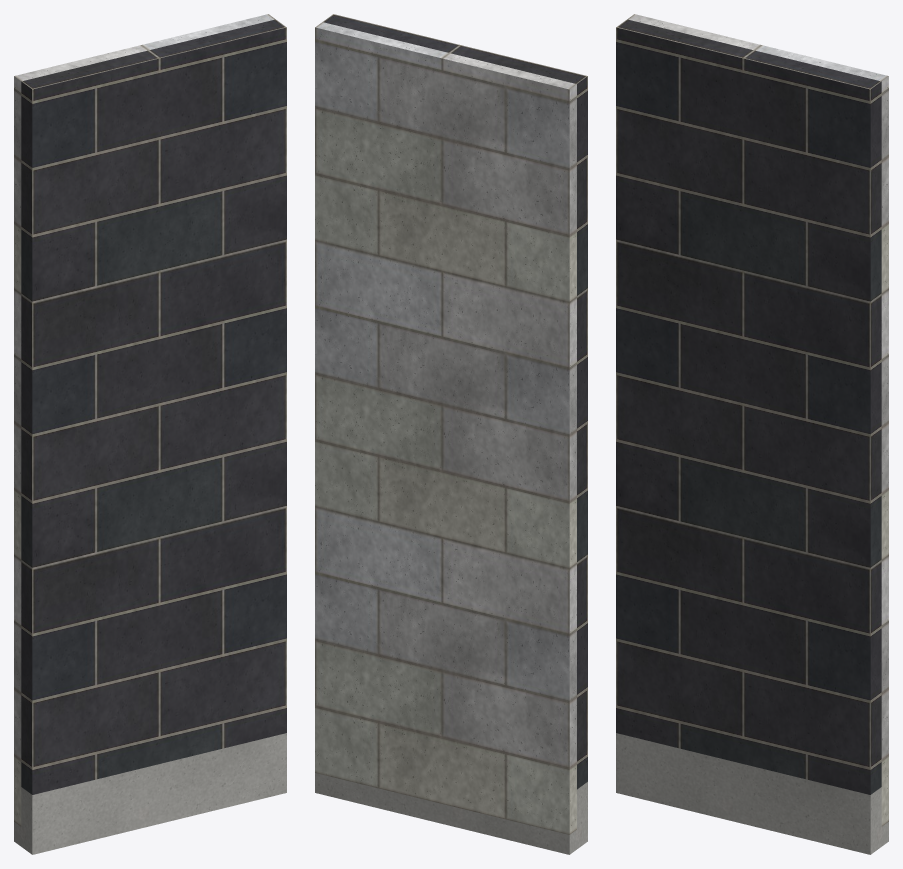
File: k_plain.glb
3 renders of one model, left to right at view 1: azimuth 30°, elevation 25°; view 2: azimuth 150°, elevation 25°; view 3: azimuth 330°, elevation 25°, orthographic.
Visible parts, largest first — view 1: k_plain_block_d, k_plain_concrete, k_plain_block_l; view 2: k_plain_block_l, k_plain_block_d, k_plain_concrete; view 3: k_plain_block_d, k_plain_concrete, k_plain_block_l.
Boxes of the visible parts, left/top/right/bottom form: k_plain_block_d: left=21, top=19, right=286, bottom=794; k_plain_concrete: left=14, top=733, right=286, bottom=854; k_plain_block_l: left=14, top=14, right=275, bottom=826; k_plain_block_l: left=315, top=22, right=576, bottom=834; k_plain_block_d: left=323, top=14, right=587, bottom=789; k_plain_concrete: left=315, top=773, right=587, bottom=854; k_plain_block_d: left=616, top=19, right=881, bottom=794; k_plain_concrete: left=616, top=733, right=888, bottom=854; k_plain_block_l: left=627, top=14, right=888, bottom=826.
Size of the model in its own units: 2 by 5.75 by 0.25.
3 materials, 3 textured.
